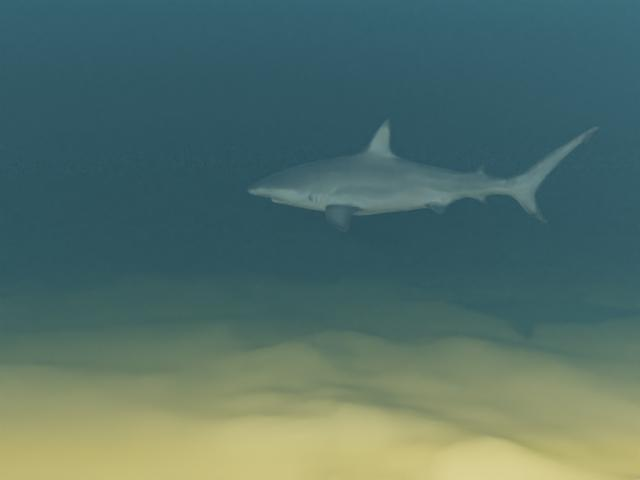Carribean Shark.001: (247, 118, 600, 231)
